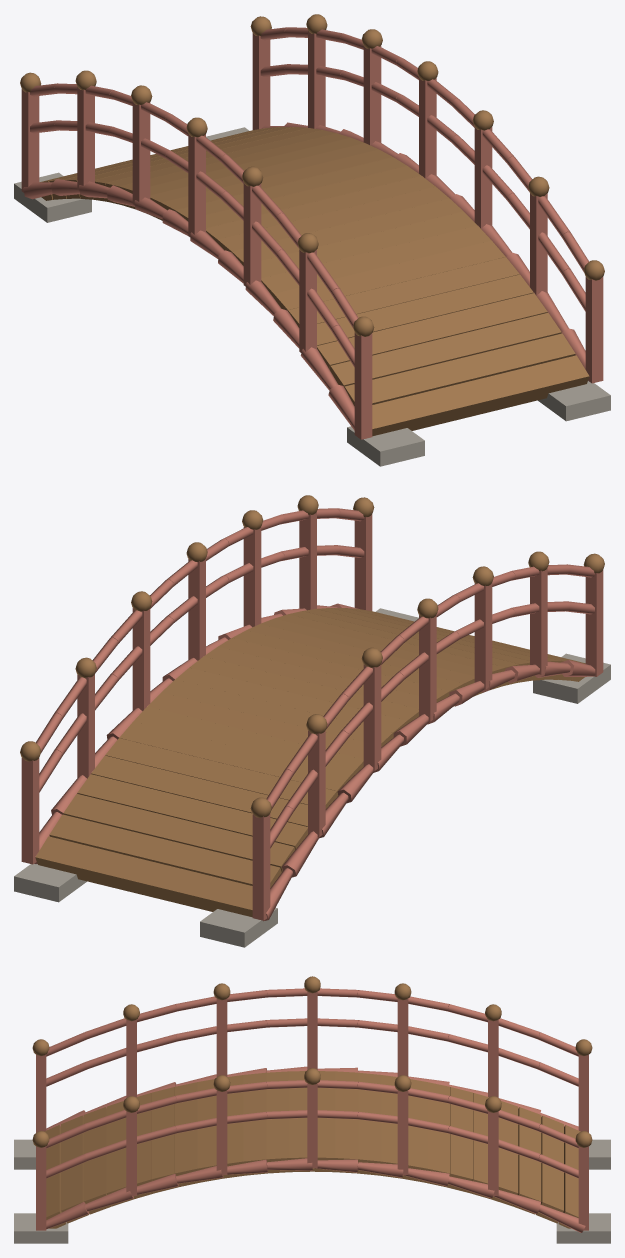
Rendered from komachi-arched-bridge.glb.
3 renders of one model, top to bottom at view 1: azimuth 30°, elevation 25°; view 2: azimuth 150°, elevation 25°; view 3: azimuth 270°, elevation 25°, orthographic. The views are drawn at different scales.
Parts seen in each view (by area): view 1: Red_Arched_Bridge; view 2: Red_Arched_Bridge; view 3: Red_Arched_Bridge.
Boxes of the visible parts, x1,y1,x2,y2 form: Red_Arched_Bridge: (14,14,610,466); Red_Arched_Bridge: (14,495,610,947); Red_Arched_Bridge: (14,976,610,1243).
Bounding box in the file's own units: 0.778 × 0.639 × 1.98.
